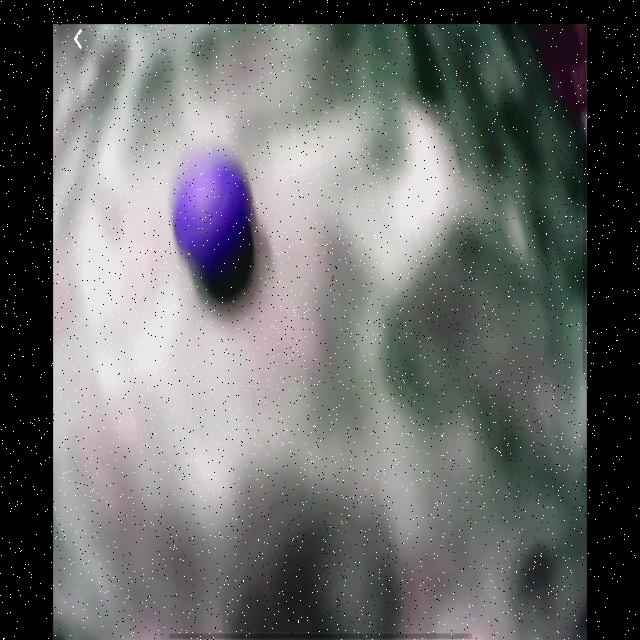ball: (174, 153, 251, 268)
